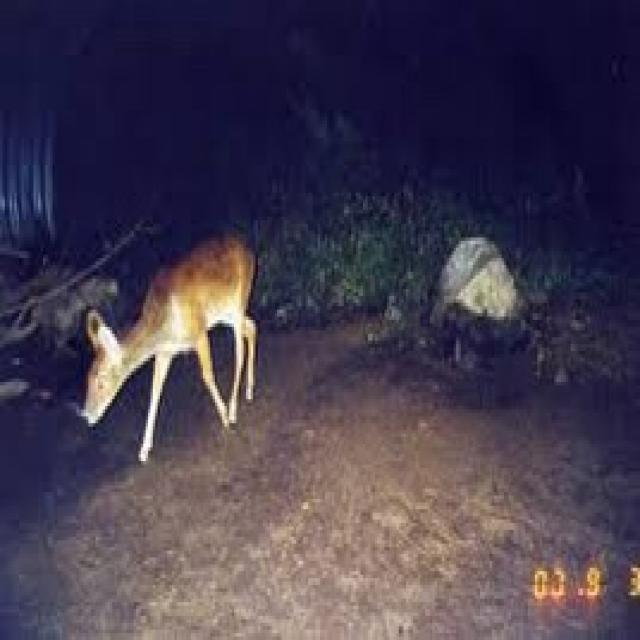elk: (26, 205, 317, 461)
